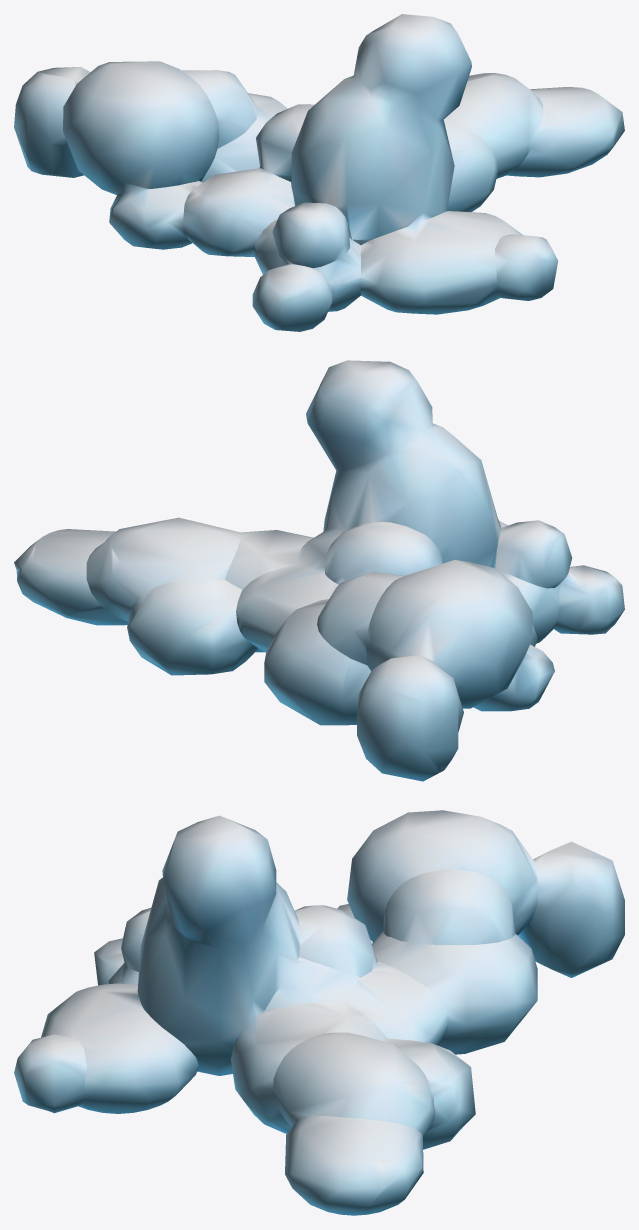
The model's file is cloud_squiggly.fbx.
3 renders of one model, top to bottom at view 1: azimuth 30°, elevation 25°; view 2: azimuth 150°, elevation 25°; view 3: azimuth 270°, elevation 25°, orthographic. The views are drawn at different scales.
Visible parts, largest first — view 1: cloud_squiggly; view 2: cloud_squiggly; view 3: cloud_squiggly.
Part boxes in pixels (left/top/right/bottom): cloud_squiggly: left=14, top=14, right=624, bottom=331; cloud_squiggly: left=14, top=360, right=624, bottom=781; cloud_squiggly: left=14, top=810, right=624, bottom=1215.
Bounding box in the file's own units: 9.1 × 4.19 × 8.57.
